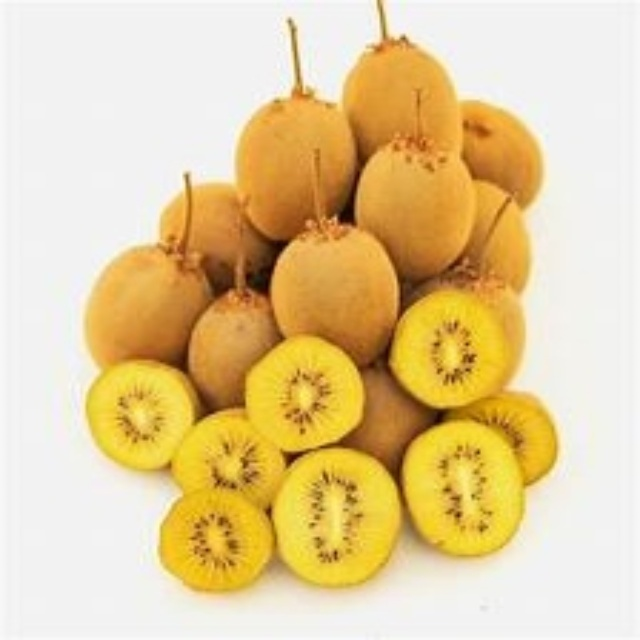kiwi: (98, 362, 404, 596), (390, 286, 530, 570), (51, 236, 222, 377), (348, 133, 480, 298), (236, 79, 360, 249), (176, 276, 298, 409), (278, 226, 400, 353), (344, 31, 457, 168), (150, 165, 269, 288), (444, 95, 560, 216)
